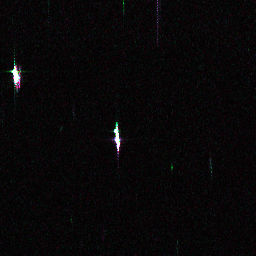ship: (111, 126, 122, 149), (10, 67, 22, 85)
